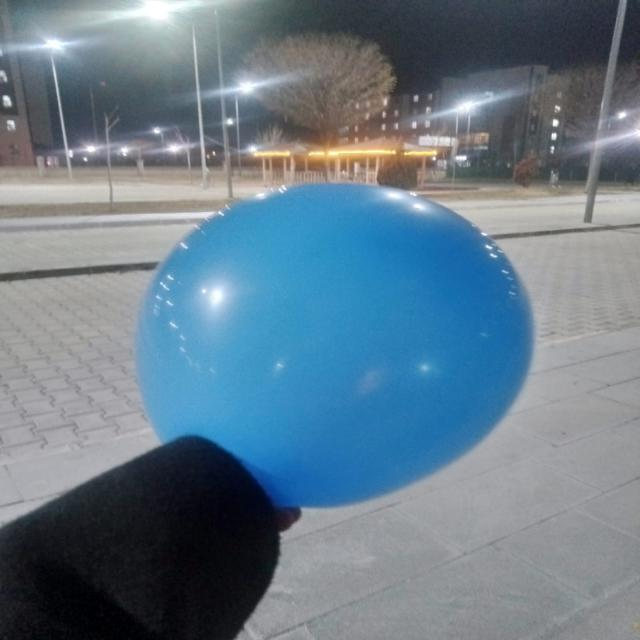balloon: (137, 184, 533, 507)
